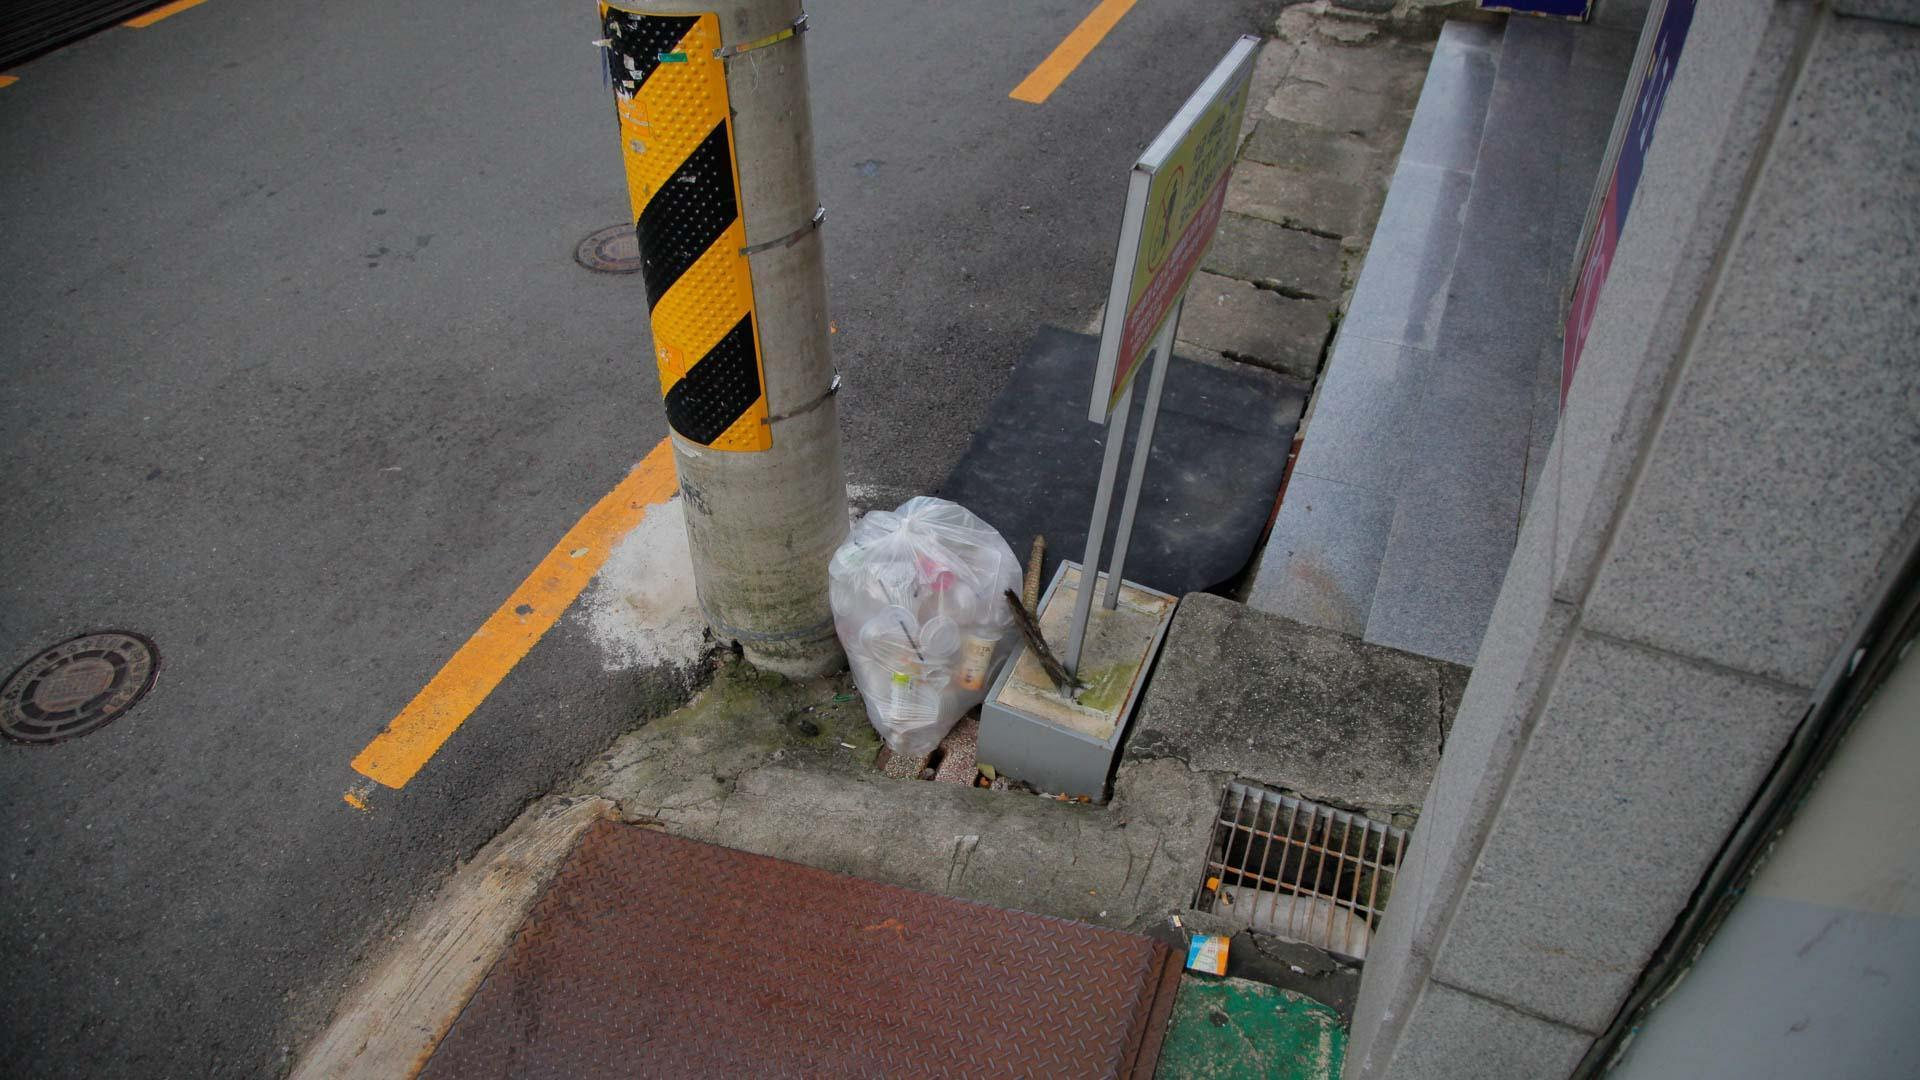white_bag: (816, 477, 1038, 769)
